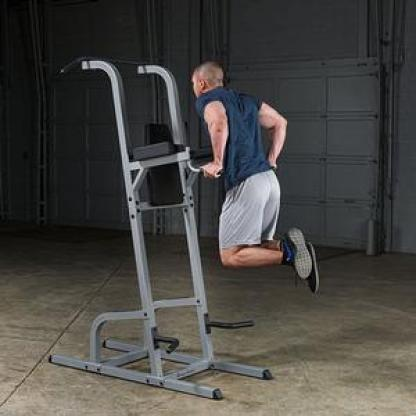chinning dipping: (54, 54, 318, 400)
